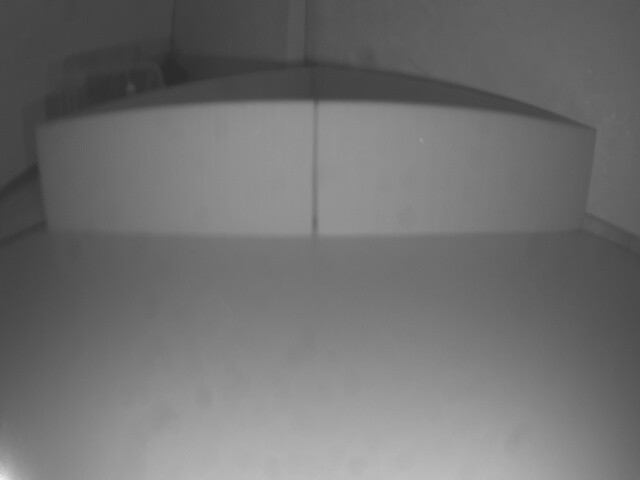Red: (37, 115, 594, 232)
